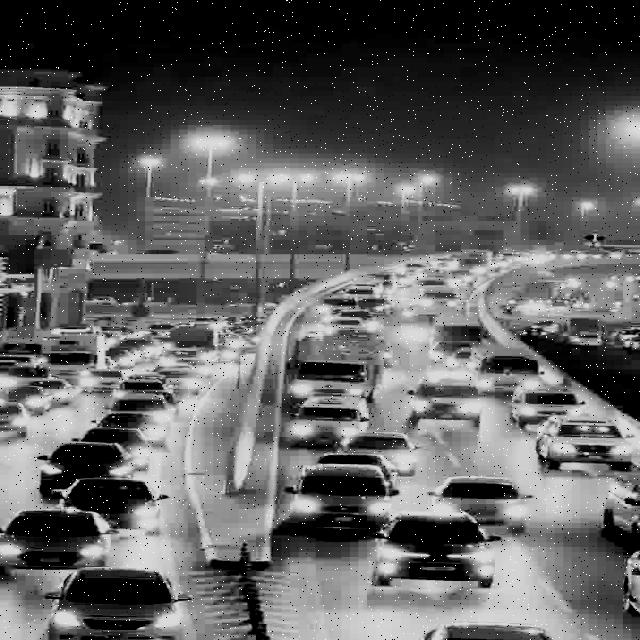Ambulance: (404, 366, 484, 426)
